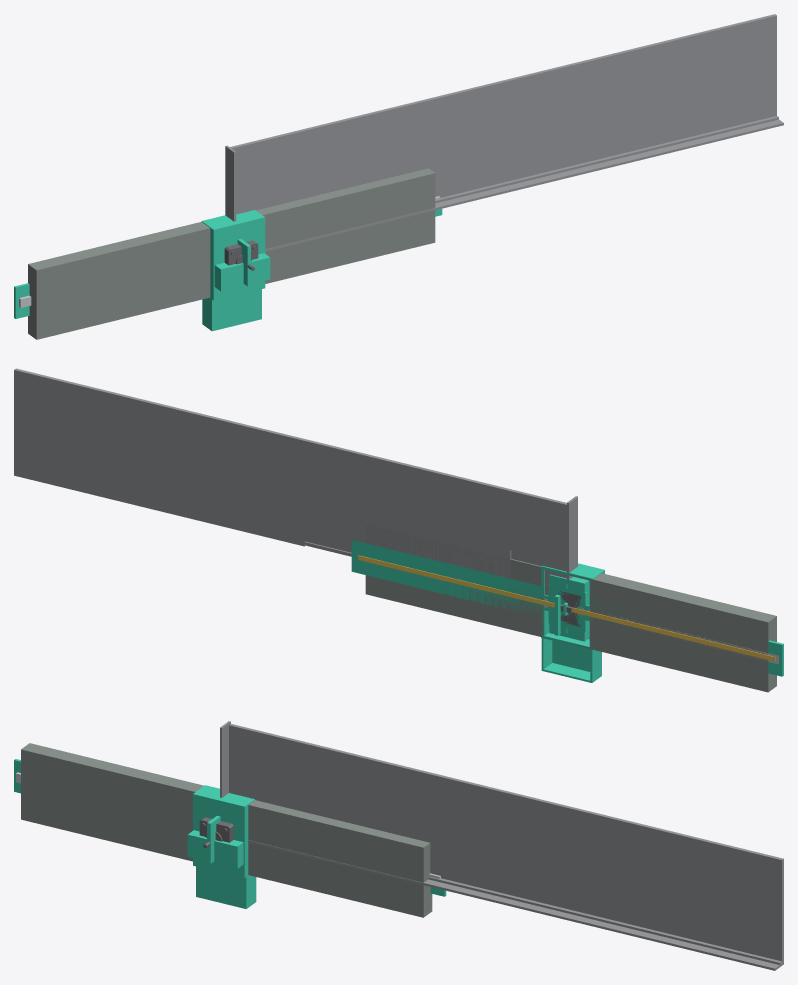
The model's file is assembly.glb.
3 renders of one model, top to bottom at view 1: azimuth 30°, elevation 25°; view 2: azimuth 150°, elevation 25°; view 3: azimuth 330°, elevation 25°, orthographic.
Visible parts, largest first — view 1: chassis, bin_bank, feeder, output, recombine; view 2: chassis, bin_bank, recombine, sel_belt_top, output, feeder, selector; view 3: chassis, bin_bank, feeder, output, recombine, sel_motor.
Part boxes in pixels (x1,y1,x2,y2): chassis: (225, 14, 783, 251); bin_bank: (28, 168, 435, 339); feeder: (201, 210, 265, 300); output: (202, 289, 261, 331); recombine: (14, 208, 442, 318); chassis: (14, 368, 577, 595); bin_bank: (365, 524, 776, 692); recombine: (351, 540, 783, 676); sel_belt_top: (358, 555, 775, 661); output: (541, 617, 601, 682); feeder: (541, 563, 604, 650); selector: (549, 574, 589, 641); chassis: (220, 721, 783, 970); bin_bank: (21, 743, 432, 917); feeder: (193, 785, 254, 878); output: (196, 866, 256, 908); recombine: (14, 759, 446, 896); sel_motor: (199, 817, 233, 848).
Bounding box in the file's own units: 1.09 × 0.2359 × 0.0902.
